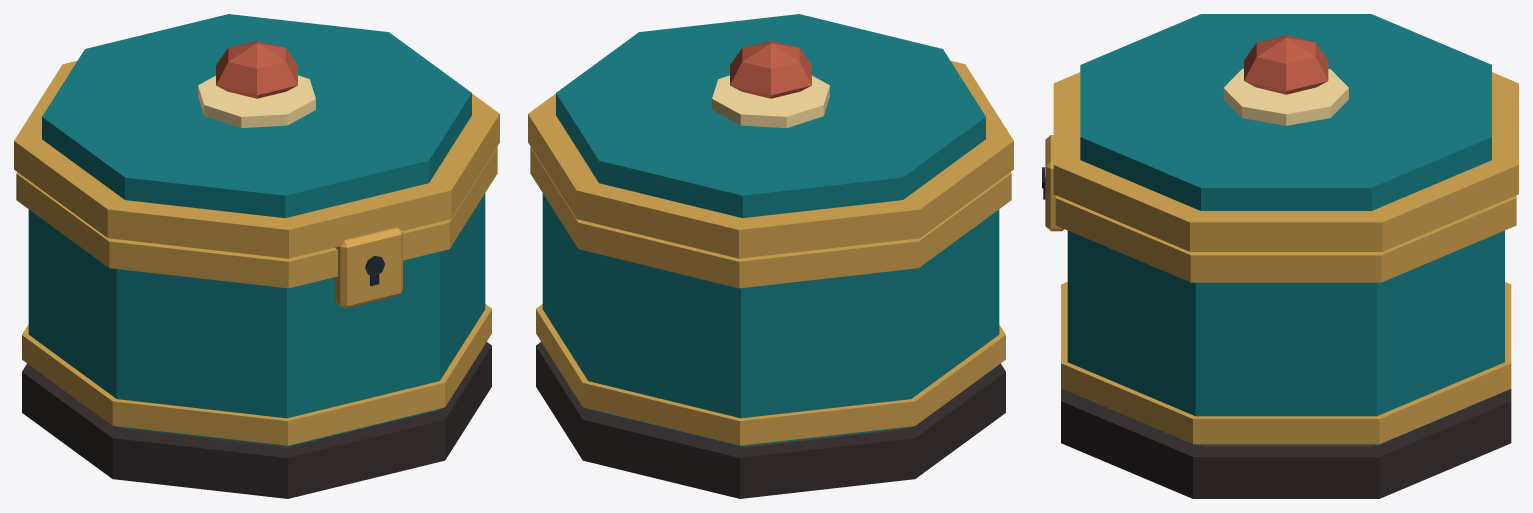
File: 06_Coin_Coffer.glb
3 renders of one model, left to right at view 1: azimuth 30°, elevation 25°; view 2: azimuth 150°, elevation 25°; view 3: azimuth 270°, elevation 25°, orthographic. The views are drawn at different scales.
Visible parts, largest first — view 1: 06_Coin_Coffer__Body, 06_Coin_Coffer__Lid; view 2: 06_Coin_Coffer__Body, 06_Coin_Coffer__Lid; view 3: 06_Coin_Coffer__Body, 06_Coin_Coffer__Lid.
Part boxes in pixels (bbox=[...]): 06_Coin_Coffer__Body: bbox=[16, 147, 497, 498]; 06_Coin_Coffer__Lid: bbox=[14, 14, 499, 258]; 06_Coin_Coffer__Body: bbox=[530, 147, 1011, 498]; 06_Coin_Coffer__Lid: bbox=[528, 14, 1013, 258]; 06_Coin_Coffer__Body: bbox=[1042, 135, 1516, 498]; 06_Coin_Coffer__Lid: bbox=[1053, 14, 1518, 251].
Size of the model in its own units: 2 by 1.74 by 2.05.
1 material, 1 textured.
